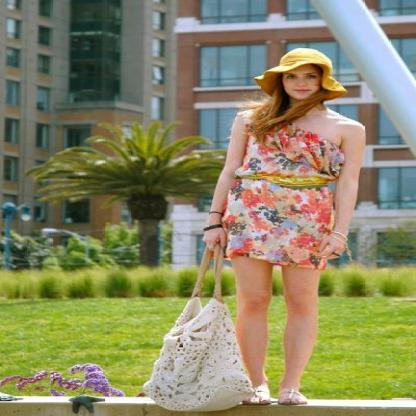bag: (137, 234, 259, 410)
dress: (212, 125, 350, 262)
hat: (266, 48, 346, 91)
